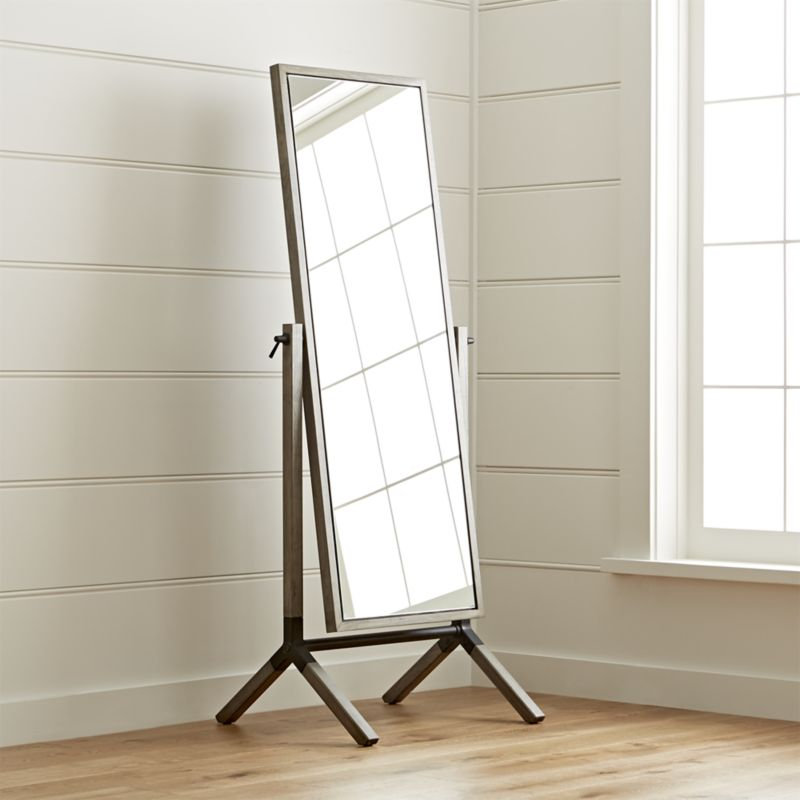Nonrec_Glass: (236, 42, 498, 655)
